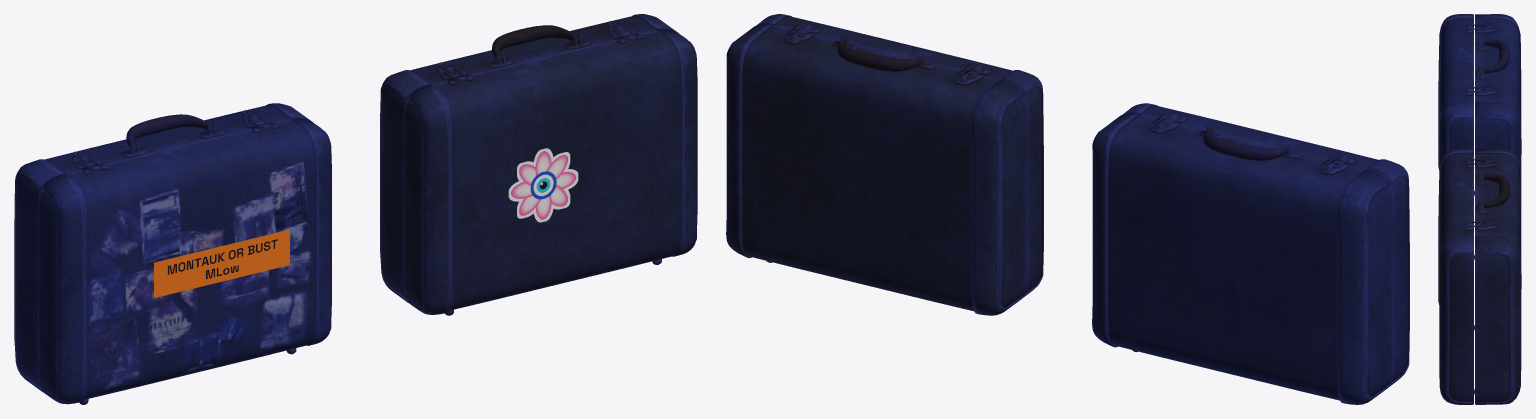
File: nyb_eternal_case.glb
The picture shows the model from 3 angles, left to right: view 1: azimuth 30°, elevation 25°; view 2: azimuth 150°, elevation 25°; view 3: azimuth 270°, elevation 25°; orthographic projection. The views are drawn at different scales.
Visible parts, largest first — view 1: vintage_suitcase_01_bottom, stk_lbl_5505007496.png, stk_eyeflower_die.png; view 2: vintage_suitcase_01_bottom; view 3: vintage_suitcase_01_bottom.
Boxes of the visible parts, <box> form: vintage_suitcase_01_bottom: <box>14,14,697,404</box>; stk_lbl_5505007496.png: <box>154,229,289,297</box>; stk_eyeflower_die.png: <box>508,148,578,222</box>; vintage_suitcase_01_bottom: <box>726,14,1409,404</box>; vintage_suitcase_01_bottom: <box>1438,14,1521,404</box>.
Size of the model in its own units: 1.61 by 0.5679 by 0.2392.
Materials: 4 (4 with a texture image).
